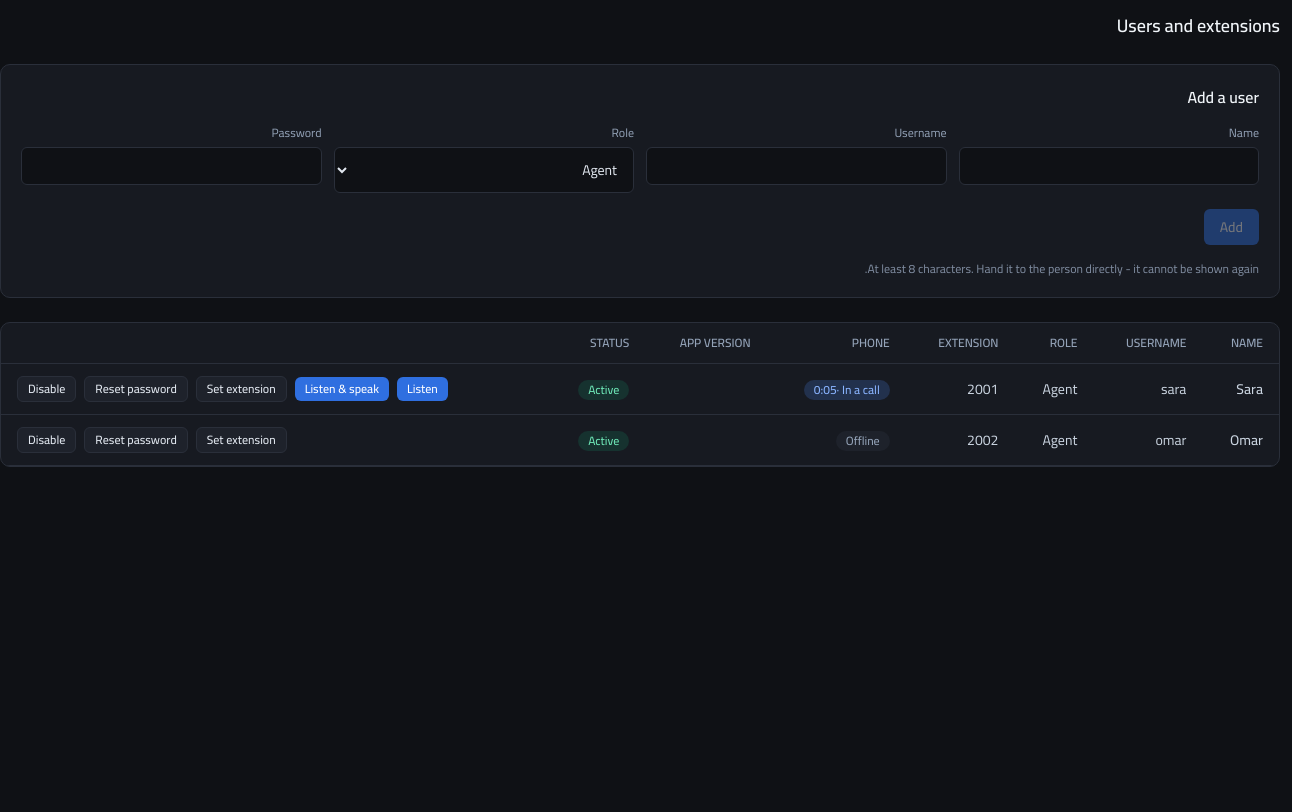
phones and listening in (S-61, S-62) › listens through the server and Stop ends it
Click the button "Listen".
click(422, 389)  # box [397, 377, 448, 401]
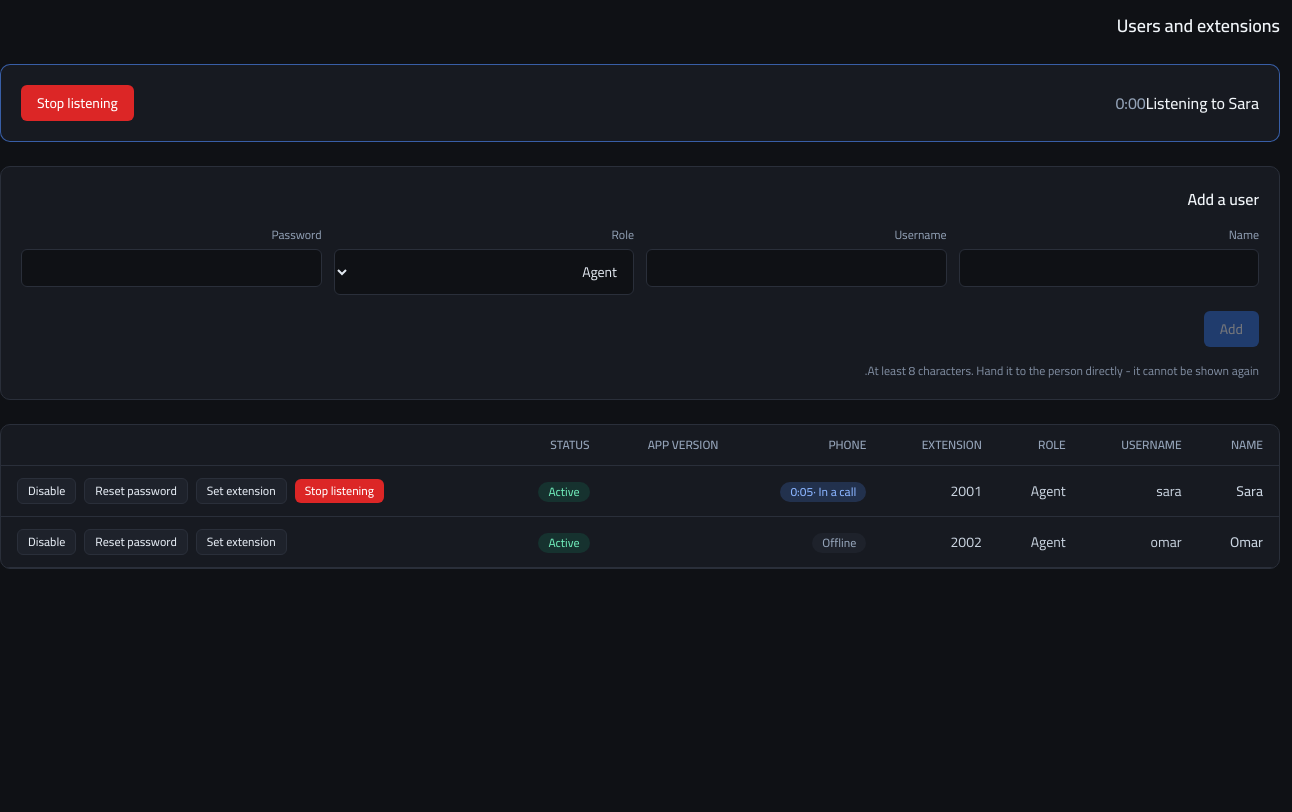
Now the text "Listening to Sara" is shown, box [1146, 88, 1259, 118]
Click the button "Stop listening" in the row of "0:00".
click(77, 103)  # box [21, 85, 134, 121]
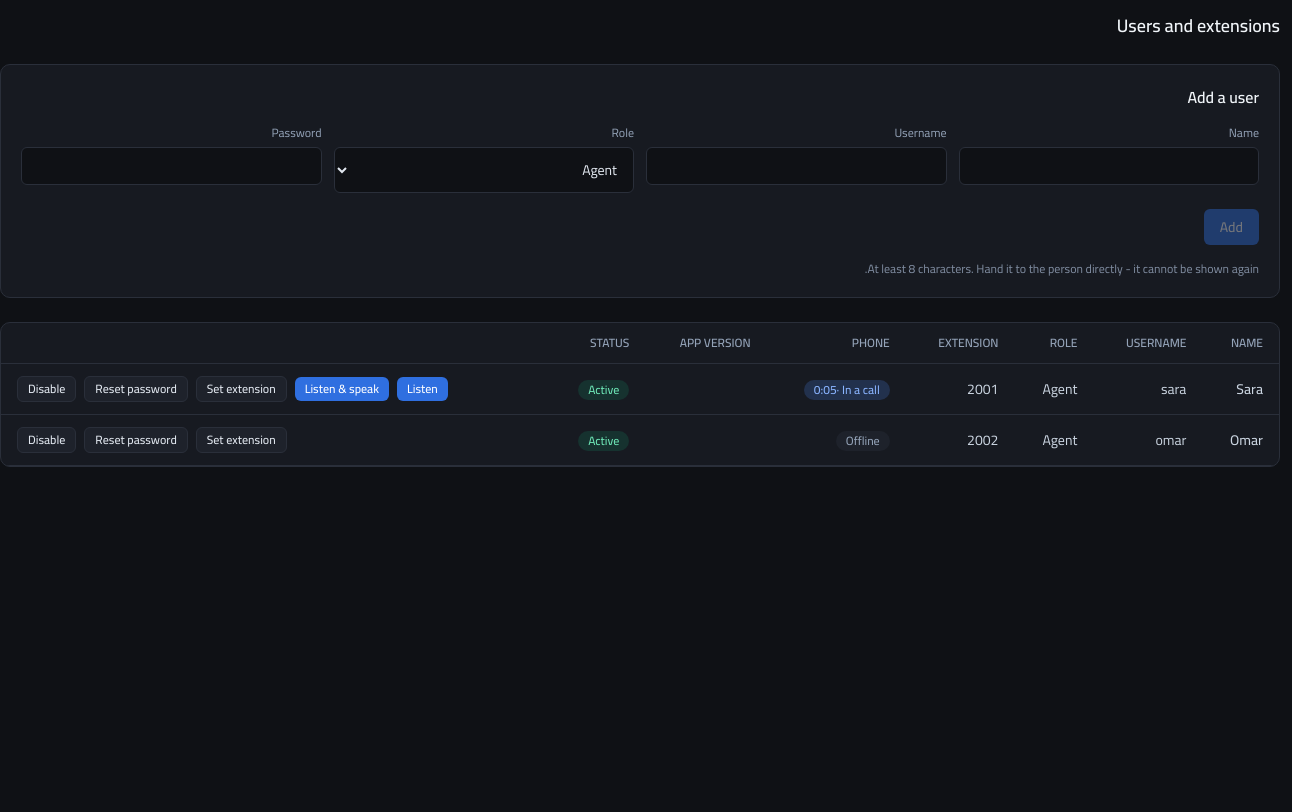
Now the text "Listening to Sara" is gone
